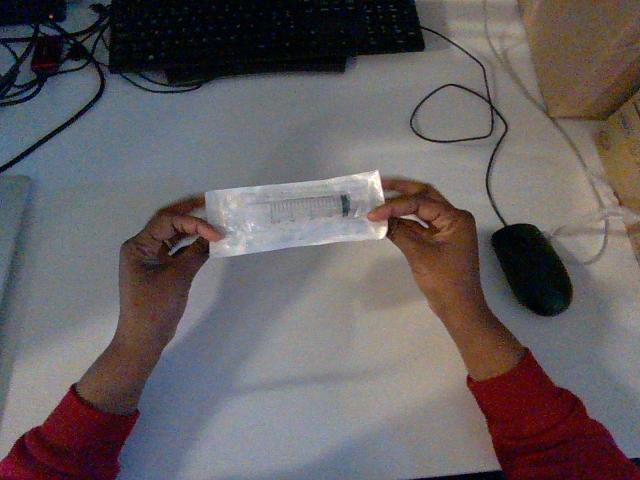syringe: (205, 171, 386, 256)
